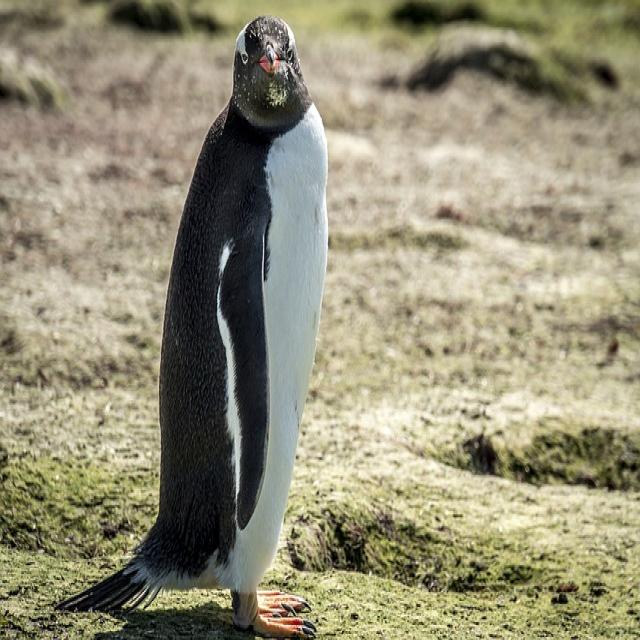Carnivorous: (57, 15, 330, 636)
